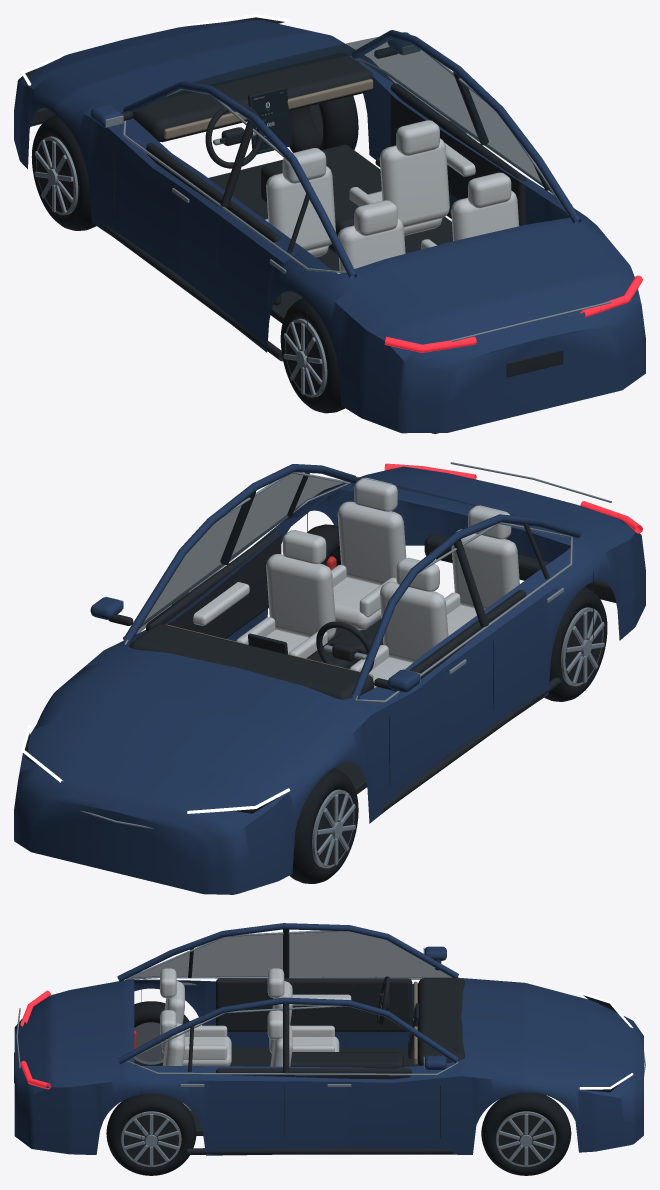
3 views of the same model, one above another, from view 1: azimuth 30°, elevation 25°; view 2: azimuth 150°, elevation 25°; view 3: azimuth 270°, elevation 25° (orthographic). The views are drawn at different scales.
Parts seen in each view (by area): view 1: geometry:body, geometry:wheel-front-left, geometry:wheel-rear-left, geometry:wheel-front-right, geometry:display-front, geometry:steering; view 2: geometry:body, geometry:wheel-front-left, geometry:wheel-rear-left, geometry:steering, geometry:wheel-rear-right; view 3: geometry:body, geometry:wheel-front-right, geometry:wheel-rear-right, geometry:wheel-rear-left, geometry:steering.
Boxes of the visible parts, <box> form: geometry:body: <box>14,14,645,433</box>; geometry:wheel-front-left: <box>31,115,96,230</box>; geometry:wheel-rear-left: <box>280,298,345,413</box>; geometry:wheel-front-right: <box>289,96,358,152</box>; geometry:display-front: <box>251,89,291,154</box>; geometry:steering: <box>205,103,263,168</box>; geometry:body: <box>14,462,645,894</box>; geometry:wheel-front-left: <box>289,768,358,883</box>; geometry:wheel-rear-left: <box>544,587,607,701</box>; geometry:steering: <box>316,621,374,672</box>; geometry:wheel-rear-right: <box>307,524,340,565</box>; geometry:body: <box>14,923,645,1155</box>; geometry:wheel-front-right: <box>481,1092,571,1175</box>; geometry:wheel-rear-right: <box>106,1093,196,1175</box>; geometry:wheel-rear-left: <box>134,1001,189,1065</box>; geometry:steering: <box>377,976,389,1025</box>.
Size of the model in its own units: 2.19 by 1.47 by 4.99.
Materials: 12 (1 with a texture image).
